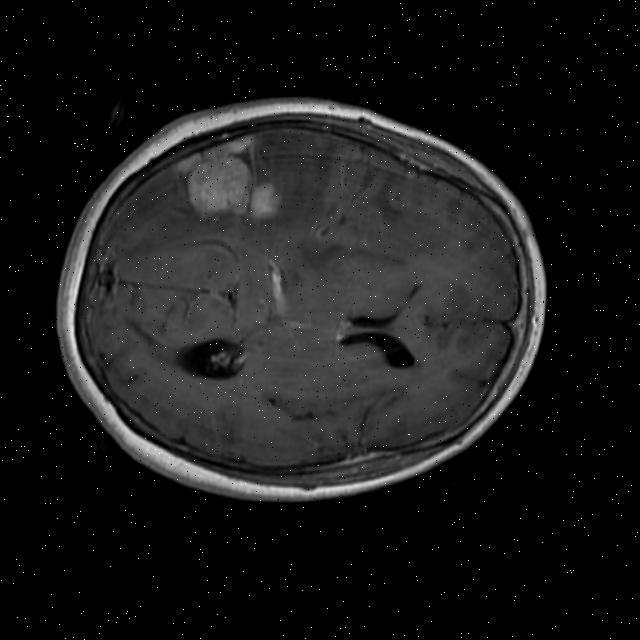Meningioma: (169, 129, 283, 224)
